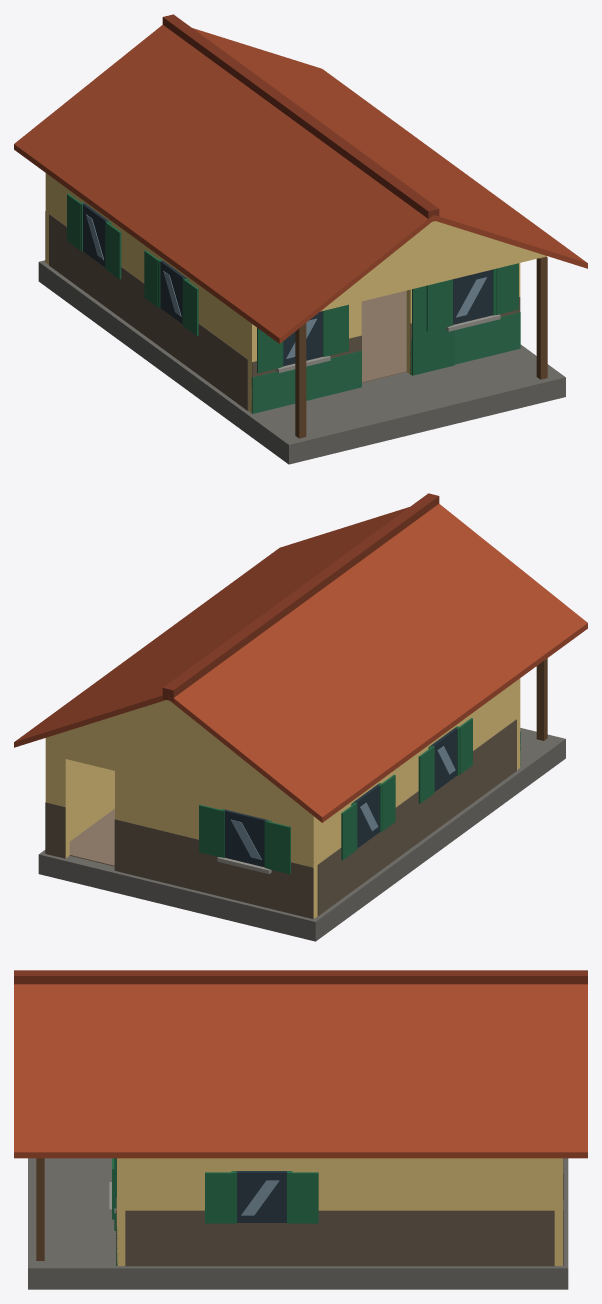
The model's file is casa_caicara_b.glb.
3 renders of one model, top to bottom at view 1: azimuth 30°, elevation 25°; view 2: azimuth 150°, elevation 25°; view 3: azimuth 270°, elevation 25°, orthographic. The views are drawn at different scales.
Parts seen in each view (by area): view 1: casa_caicara_b; view 2: casa_caicara_b; view 3: casa_caicara_b.
Part boxes in pixels (left/top/right/bottom): casa_caicara_b: left=14, top=14, right=587, bottom=464; casa_caicara_b: left=14, top=493, right=587, bottom=941; casa_caicara_b: left=14, top=970, right=587, bottom=1289.
Bounding box in the file's own units: 6.9 × 4.82 × 10.3.
